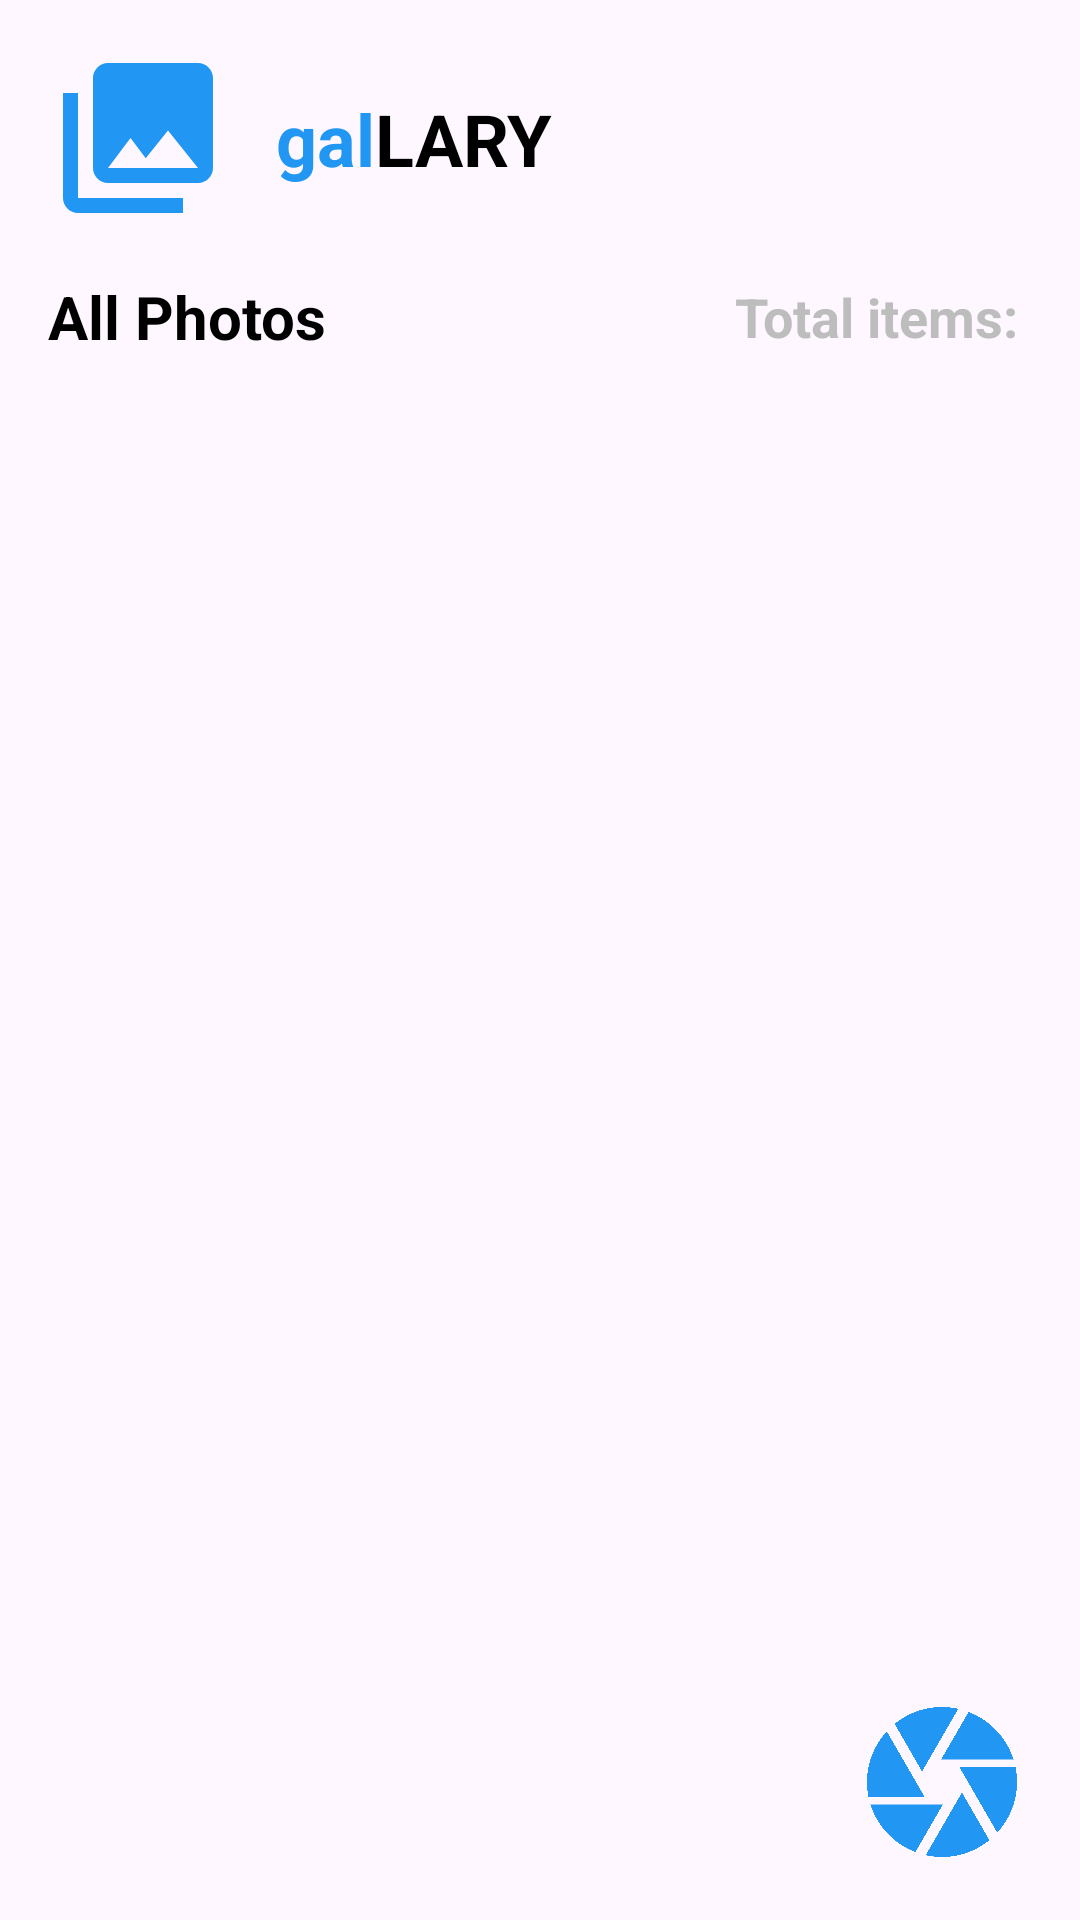

Icons on this 1080w x 1920h Android screen, each with its box as (x1, y1, x2, y2):
camera: (867, 1707, 1017, 1857)
photo library: (63, 63, 213, 213)
